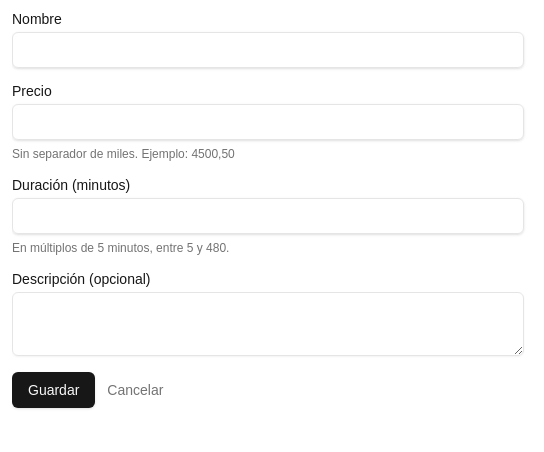
Test: ServiceForm — field errors and focus › should_render_the_durationMinutes_error_on_its_own_control
Type "Corte Clásico" into the field labelled "Nombre" at (268, 50), box [12,32,524,68]
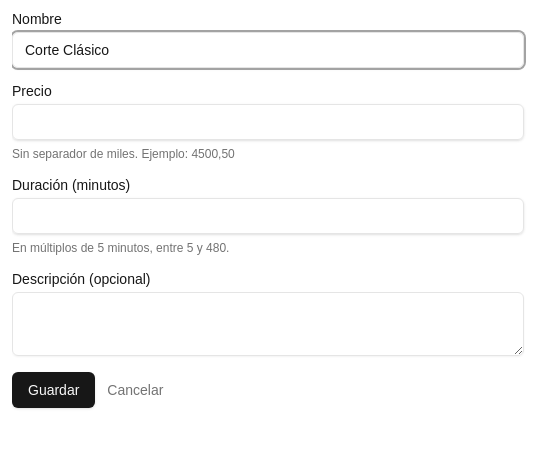
Type "4500,50" into the field labelled "Precio" at (268, 122), box [12,104,524,140]
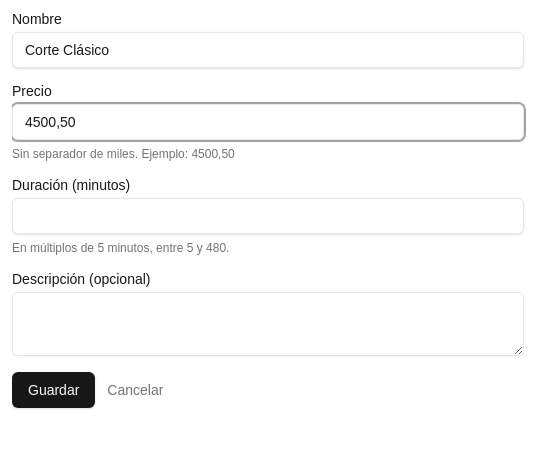
Type "30" into the field labelled "Duración (minutos)" at (268, 216), box [12,198,524,234]
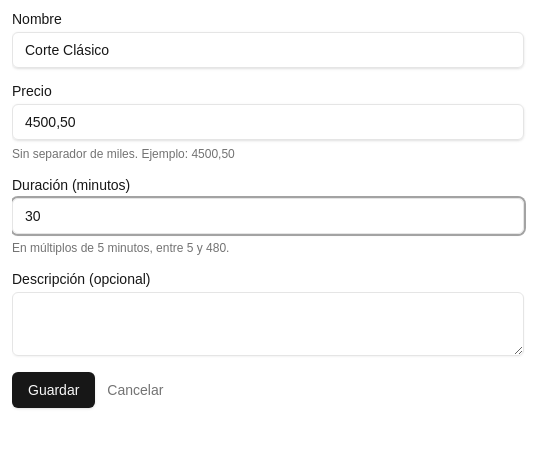
Type "Corte con máquina y tijera" into the text box labelled "Descripción (opcional)" at (268, 324), box [12,292,524,356]
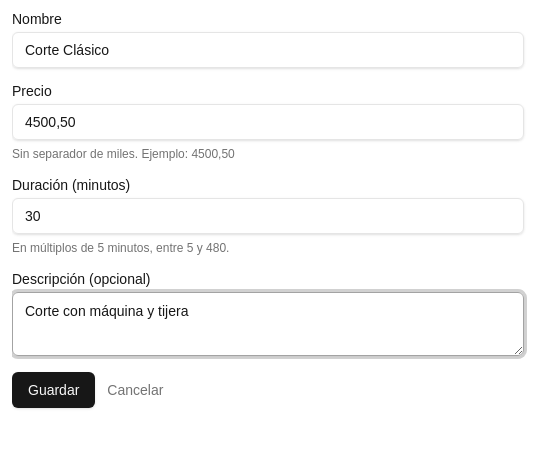
Click the button "Guardar" at (54, 390), box [12,372,95,408]
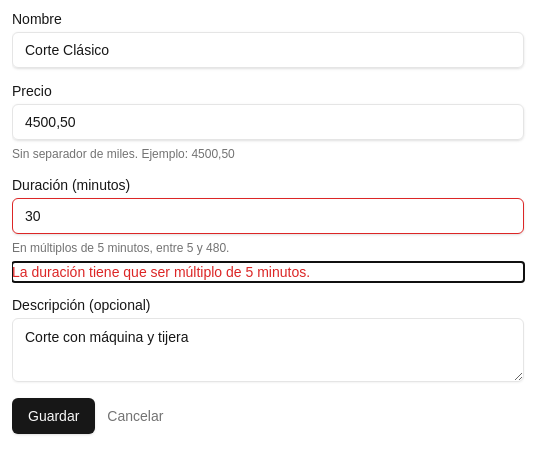
Expected: the message reads "La duración tiene que ser múltiplo de 5 minutos.", [12,264,310,280]
